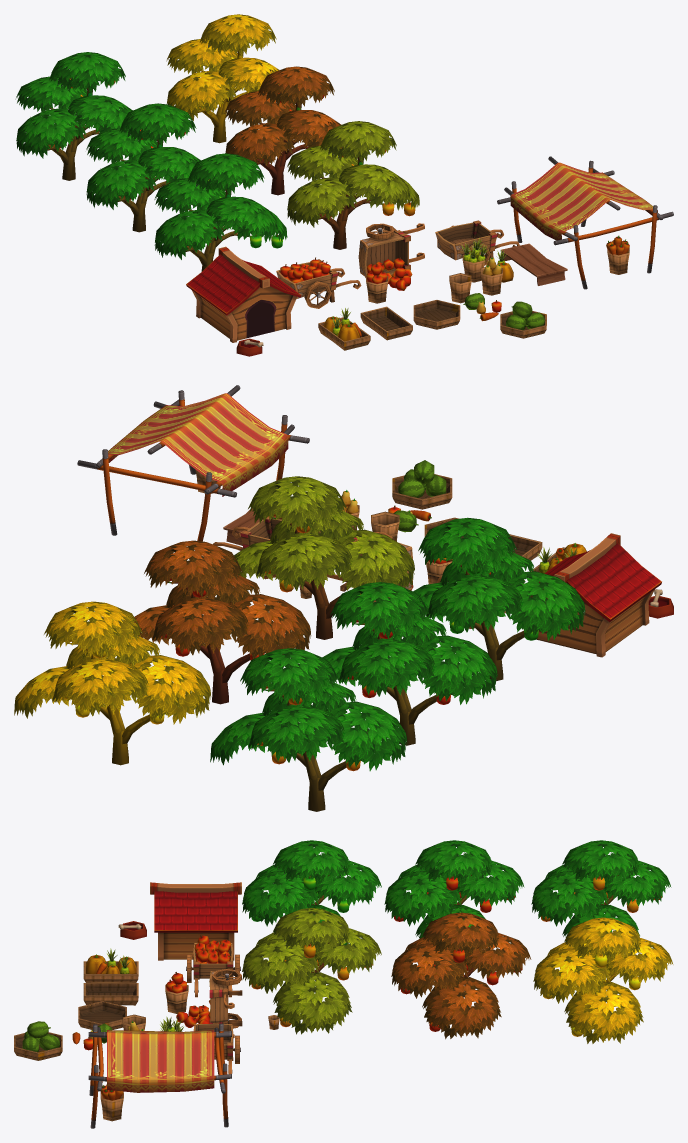
The model's file is Summer_SpecialItems.FBX.
3 renders of one model, top to bottom at view 1: azimuth 30°, elevation 25°; view 2: azimuth 150°, elevation 25°; view 3: azimuth 270°, elevation 25°, orthographic. The views are drawn at different scales.
Parts seen in each view (by area): view 1: AppleTree_4, AppleTree_1, AppleTree_3, AppleTree_2, AppleTree_5, AppleTree_6, Market Table, Dog_House, Apple_Cart(Upset), Apple_Cart, Empty_Cart, Market_Table (+10 smaller); view 2: AppleTree_6, AppleTree_3, AppleTree_2, AppleTree_5, AppleTree_1, AppleTree_4, Market Table, Dog_House, WaterMelon_Basket, Basket_003, Empty_Cart; view 3: AppleTree_6, AppleTree_5, AppleTree_4, Market Table, AppleTree_3, AppleTree_2, AppleTree_1, Dog_House, Apple_Cart(Upset), Apple_Cart, Basket_3, Basket_2 (+7 smaller).
Boxes of the visible parts, x1=… form: AppleTree_4: x1=287, y1=121, x2=419, y2=249; AppleTree_1: x1=154, y1=153, x2=287, y2=271; AppleTree_3: x1=15, y1=52, x2=132, y2=180; AppleTree_2: x1=86, y1=103, x2=208, y2=232; AppleTree_5: x1=224, y1=66, x2=341, y2=195; AppleTree_6: x1=166, y1=14, x2=279, y2=143; Market Table: x1=497, y1=156, x2=673, y2=289; Dog_House: x1=186, y1=246, x2=301, y2=356; Apple_Cart(Upset): x1=358, y1=223, x2=424, y2=290; Apple_Cart: x1=276, y1=257, x2=361, y2=308; Empty_Cart: x1=435, y1=220, x2=519, y2=265; Market_Table: x1=500, y1=243, x2=567, y2=285; AppleTree_6: x1=14, y1=601, x2=211, y2=765; AppleTree_3: x1=210, y1=648, x2=407, y2=811; AppleTree_2: x1=318, y1=582, x2=497, y2=745; AppleTree_5: x1=133, y1=540, x2=311, y2=704; AppleTree_1: x1=409, y1=517, x2=585, y2=681; AppleTree_4: x1=233, y1=476, x2=414, y2=639; Market Table: x1=77, y1=385, x2=309, y2=541; Dog_House: x1=530, y1=533, x2=673, y2=657; WaterMelon_Basket: x1=398, y1=460, x2=446, y2=497; Basket_003: x1=392, y1=474, x2=452, y2=509; Empty_Cart: x1=213, y1=516, x2=320, y2=579; AppleTree_6: x1=533, y1=917, x2=673, y2=1043; AppleTree_5: x1=391, y1=912, x2=531, y2=1039; AppleTree_4: x1=242, y1=908, x2=381, y2=1034; Market Table: x1=88, y1=1023, x2=231, y2=1128; AppleTree_3: x1=531, y1=840, x2=671, y2=941; AppleTree_2: x1=384, y1=840, x2=524, y2=938; AppleTree_1: x1=242, y1=840, x2=381, y2=964; Dog_House: x1=118, y1=882, x2=241, y2=960; Apple_Cart(Upset): x1=176, y1=969, x2=242, y2=1038; Apple_Cart: x1=186, y1=935, x2=240, y2=997; Basket_3: x1=83, y1=982, x2=138, y2=1005; Basket_2: x1=78, y1=1001, x2=126, y2=1029.
Bounding box in the file's own units: 1127 × 299 × 1460.
